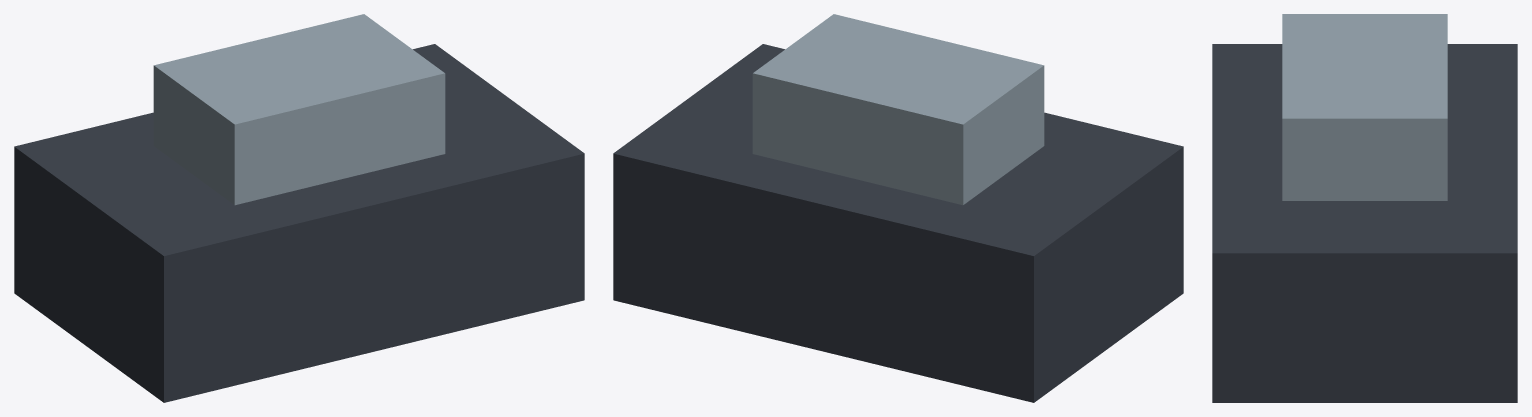
The model's file is 123_L109_SW03_CONFIG.fbx.
3 renders of one model, left to right at view 1: azimuth 30°, elevation 25°; view 2: azimuth 150°, elevation 25°; view 3: azimuth 270°, elevation 25°, orthographic.
Parts seen in each view (by area): view 1: L109_SW03_CONFIG_POLYMER, L109_SW03_CONFIG_ALUMINUM; view 2: L109_SW03_CONFIG_POLYMER, L109_SW03_CONFIG_ALUMINUM; view 3: L109_SW03_CONFIG_POLYMER, L109_SW03_CONFIG_ALUMINUM.
Boxes of the visible parts, left/top/right/bottom form: L109_SW03_CONFIG_POLYMER: left=14, top=44, right=584, bottom=402; L109_SW03_CONFIG_ALUMINUM: left=153, top=14, right=445, bottom=205; L109_SW03_CONFIG_POLYMER: left=613, top=44, right=1183, bottom=402; L109_SW03_CONFIG_ALUMINUM: left=752, top=14, right=1044, bottom=205; L109_SW03_CONFIG_POLYMER: left=1212, top=44, right=1517, bottom=402; L109_SW03_CONFIG_ALUMINUM: left=1282, top=14, right=1447, bottom=200.
Bounding box in the file's own units: 6 × 3.7 × 3.1.
